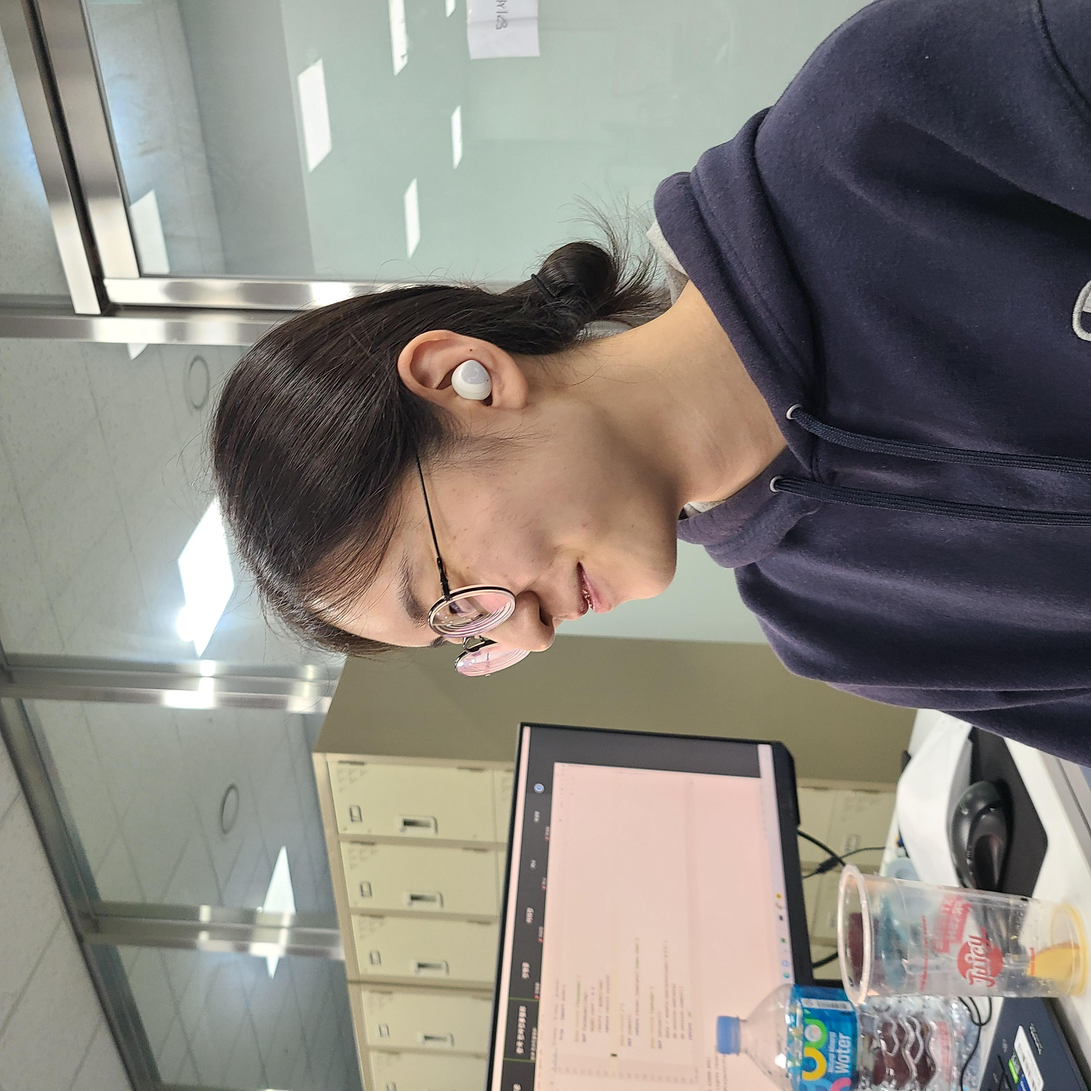earphone: (681, 444, 739, 499)
